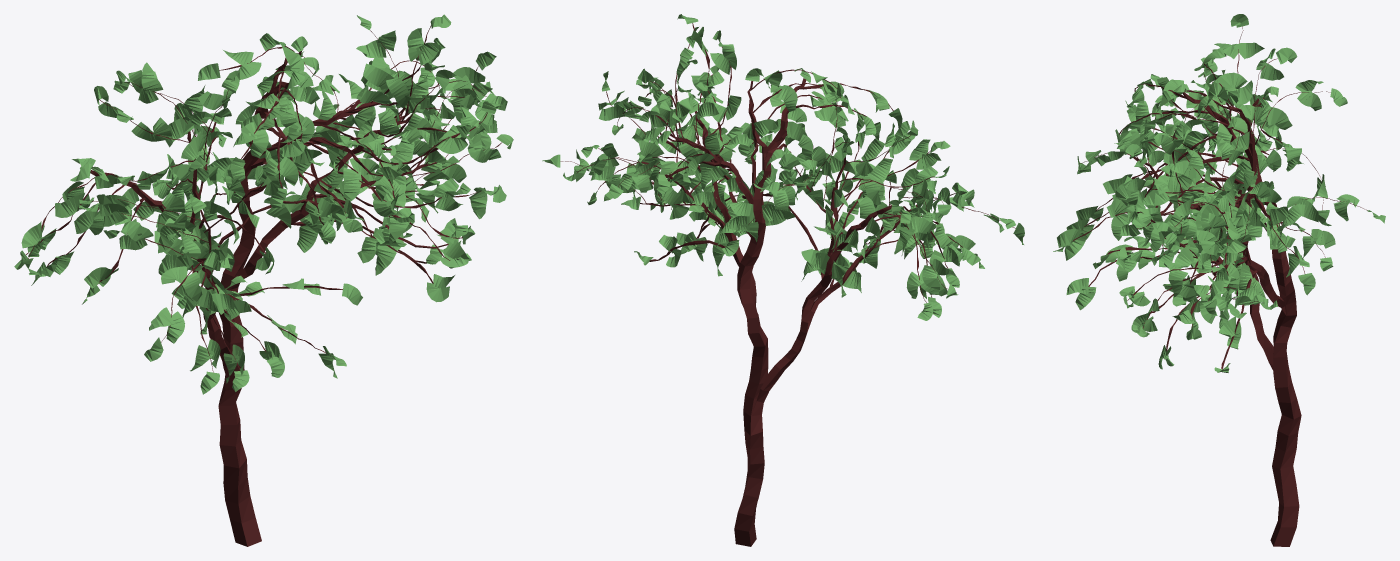
The model's file is 01_treeG_01.fbx.
The picture shows the model from 3 angles, left to right: view 1: azimuth 30°, elevation 25°; view 2: azimuth 150°, elevation 25°; view 3: azimuth 270°, elevation 25°; orthographic projection. The views are drawn at different scales.
Parts seen in each view (by area): view 1: _treeCopaG_01, _treeTroncoG_01; view 2: _treeCopaG_01, _treeTroncoG_01; view 3: _treeCopaG_01, _treeTroncoG_01.
Part boxes in pixels (<box>): _treeCopaG_01: <box>14,14,513,394</box>; _treeTroncoG_01: <box>26,25,501,546</box>; _treeCopaG_01: <box>542,14,1024,320</box>; _treeTroncoG_01: <box>560,23,1015,546</box>; _treeCopaG_01: <box>1053,14,1385,372</box>; _treeTroncoG_01: <box>1072,26,1367,546</box>.
Size of the model in its own units: 454 by 492 by 311.
